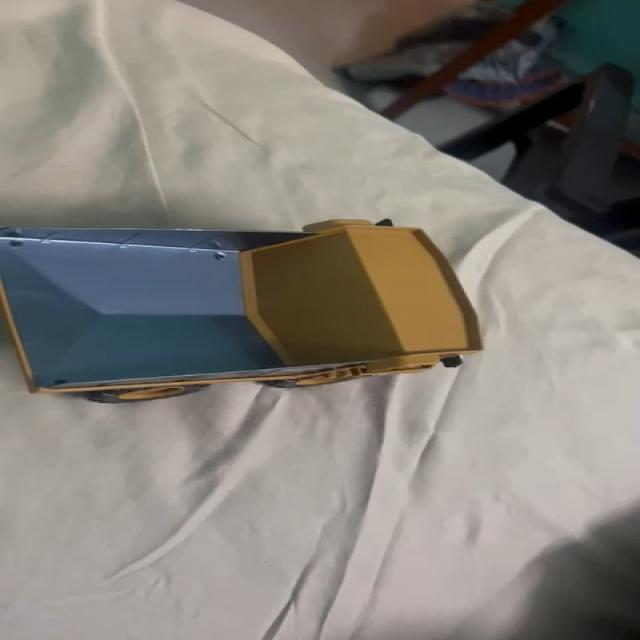dump_truck: (0, 215, 476, 401)
